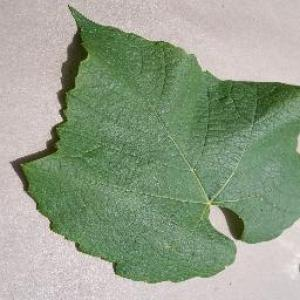Folha: (17, 3, 298, 284)
